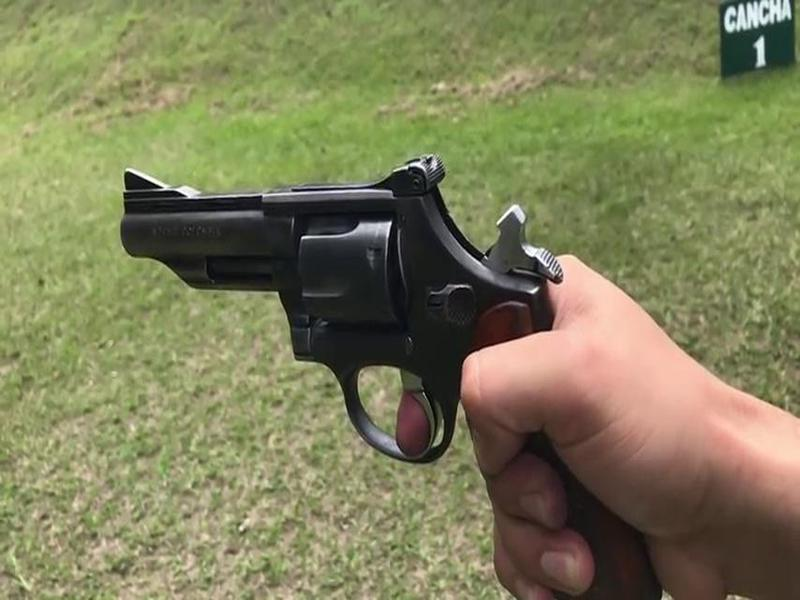Revolver: (104, 143, 650, 534)
